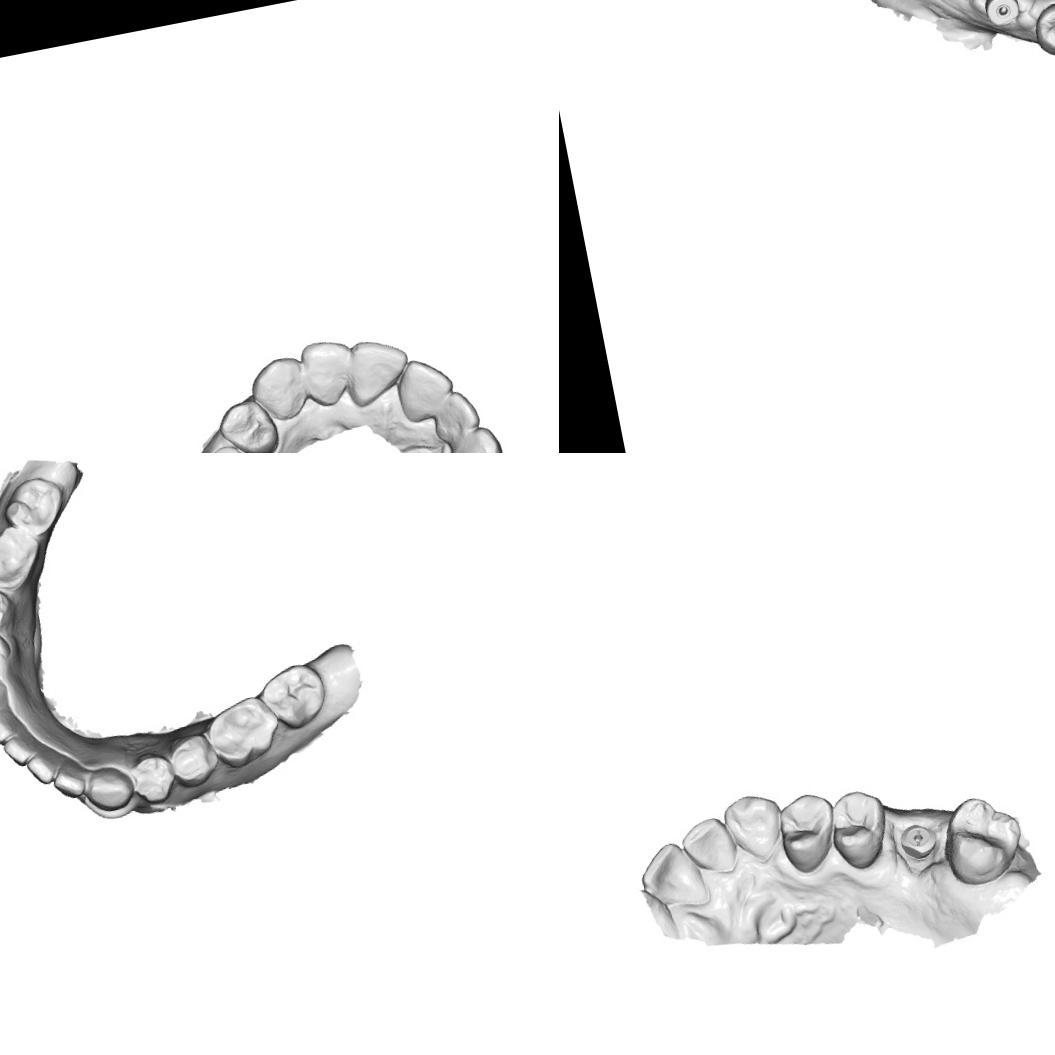canine: (245, 349, 312, 428), (718, 788, 786, 864), (80, 759, 138, 816), (439, 421, 509, 453), (0, 667, 11, 720)
implant: (980, 0, 1022, 28), (205, 441, 249, 453)
implant_minus: (897, 816, 940, 862)
incisor: (340, 330, 416, 410), (634, 836, 710, 916), (291, 334, 362, 414), (387, 351, 458, 426), (672, 809, 740, 880), (426, 385, 486, 448), (48, 763, 88, 802), (23, 750, 59, 788), (1, 732, 37, 769), (0, 704, 22, 746)
molar: (933, 786, 1030, 890), (196, 689, 287, 774), (256, 657, 332, 736), (0, 470, 71, 539), (0, 519, 49, 599)
premolar: (768, 788, 844, 876), (821, 784, 892, 874), (212, 393, 281, 453), (164, 728, 222, 790), (125, 746, 179, 806), (1029, 0, 1055, 60), (0, 581, 19, 636), (0, 624, 16, 680)
